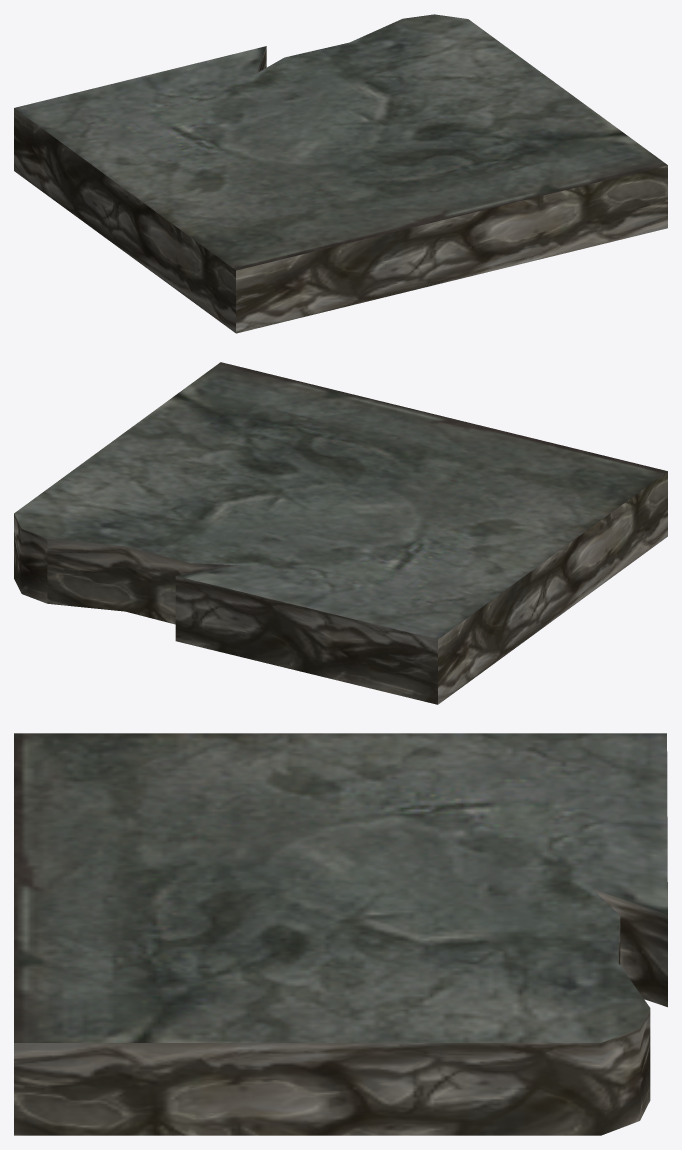
Rendered from Z_dizhuan009.fbx.
3 renders of one model, top to bottom at view 1: azimuth 30°, elevation 25°; view 2: azimuth 150°, elevation 25°; view 3: azimuth 270°, elevation 25°, orthographic. The views are drawn at different scales.
Visible parts, largest first — view 1: Z_dizhuan009; view 2: Z_dizhuan009; view 3: Z_dizhuan009.
Boxes of the visible parts, x1=… form: Z_dizhuan009: x1=14, y1=14, x2=667, y2=333; Z_dizhuan009: x1=14, y1=362, x2=667, y2=704; Z_dizhuan009: x1=14, y1=733, x2=667, y2=1135.
Size of the model in its own units: 142 by 19.8 by 127.
